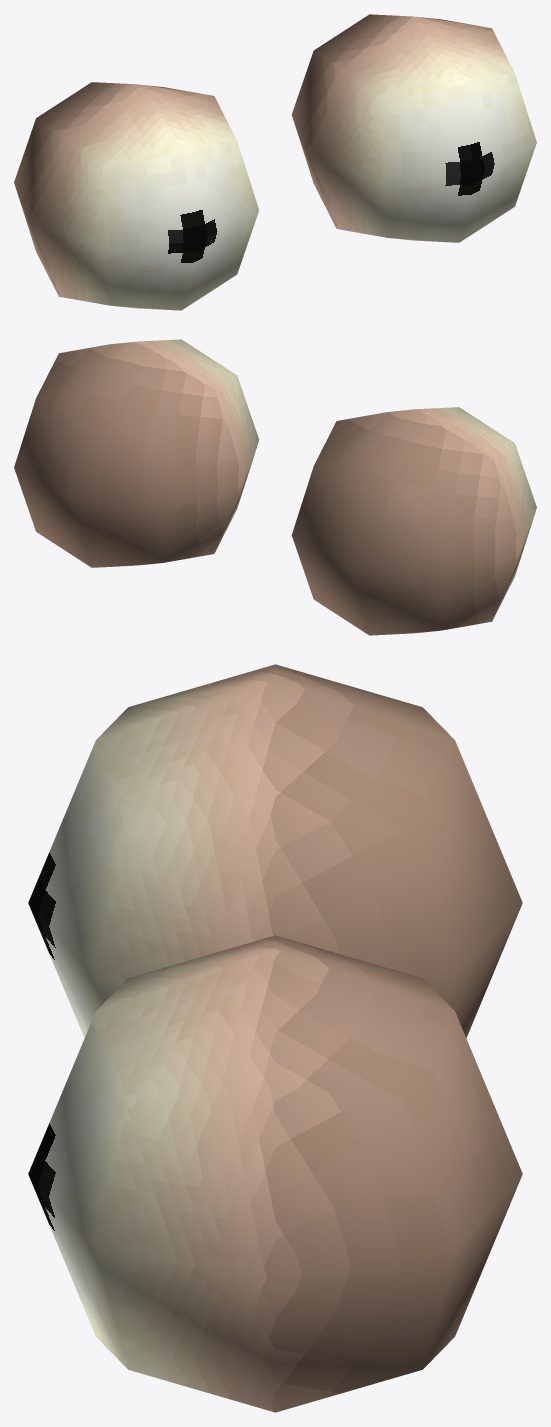
Rendered from Eyes_Default.fbx.
3 renders of one model, top to bottom at view 1: azimuth 30°, elevation 25°; view 2: azimuth 150°, elevation 25°; view 3: azimuth 270°, elevation 25°, orthographic. The views are drawn at different scales.
Parts seen in each view (by area): view 1: Eye_L, Eye_R; view 2: Eye_L, Eye_R; view 3: Eye_L, Eye_R.
Boxes of the visible parts, left/top/right/bottom form: Eye_L: left=291, top=14, right=536, bottom=242; Eye_R: left=14, top=82, right=259, bottom=310; Eye_L: left=14, top=339, right=259, bottom=567; Eye_R: left=291, top=407, right=536, bottom=635; Eye_L: left=28, top=935, right=522, bottom=1412; Eye_R: left=28, top=664, right=522, bottom=1037.
Bounding box in the file's own units: 0.3978 × 0.1732 × 0.1732.
Materials: 1 (1 with a texture image).
